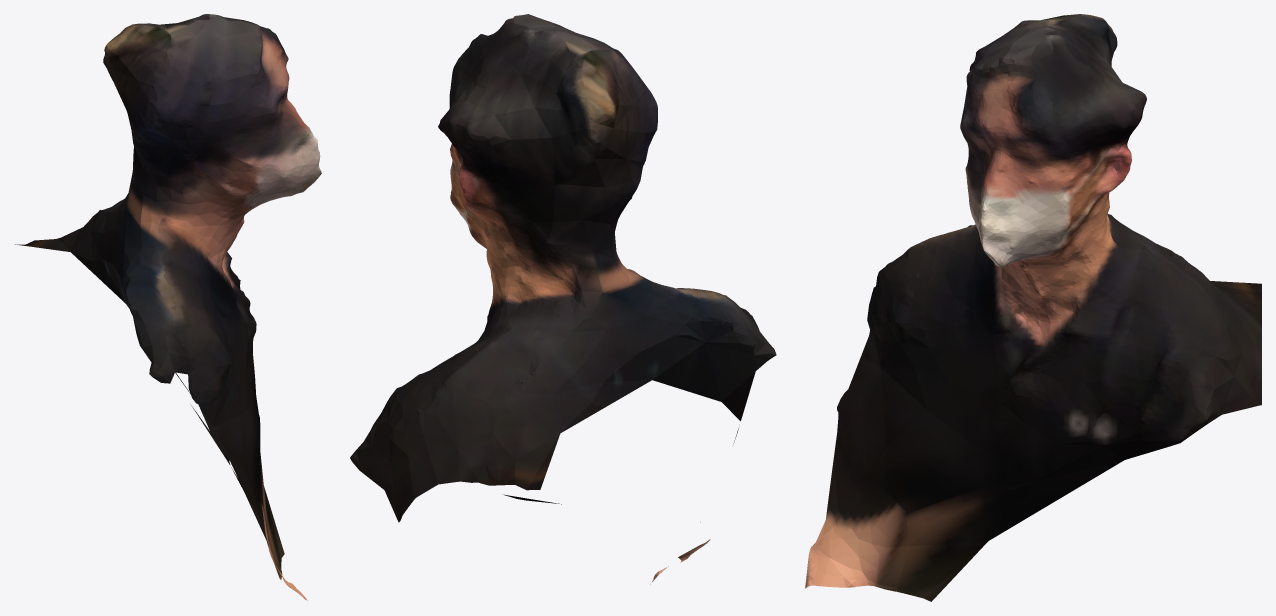
The picture shows the model from 3 angles, left to right: view 1: azimuth 30°, elevation 25°; view 2: azimuth 150°, elevation 25°; view 3: azimuth 270°, elevation 25°; orthographic projection. The views are drawn at different scales.
Parts seen in each view (by area): view 1: mesh; view 2: mesh; view 3: mesh.
Part boxes in pixels (bbox=[...]): mesh: bbox=[15, 14, 321, 600]; mesh: bbox=[350, 14, 776, 584]; mesh: bbox=[805, 14, 1261, 601].
Bounding box in the file's own units: 0.2894 × 0.6612 × 0.4923.
Materials: 1 (1 with a texture image).
